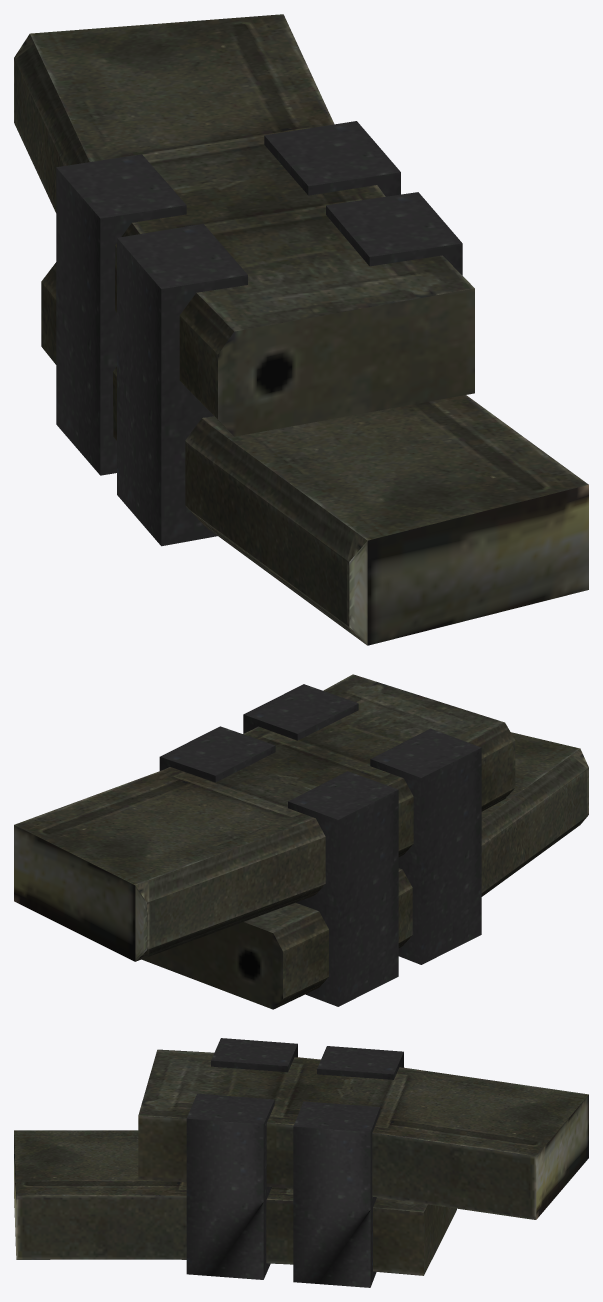
Rendered from t6_attach_fastmag_sig556_world_LOD1.obj.
The picture shows the model from 3 angles, top to bottom: view 1: azimuth 30°, elevation 25°; view 2: azimuth 150°, elevation 25°; view 3: azimuth 270°, elevation 25°; orthographic projection. The views are drawn at different scales.
Visible parts, largest first — view 1: mtl_t6_wpn_ar_sig556_camo1, mtl_t6_wpn_ar_sig556_camo3; view 2: mtl_t6_wpn_ar_sig556_camo1, mtl_t6_wpn_ar_sig556_camo3; view 3: mtl_t6_wpn_ar_sig556_camo1, mtl_t6_wpn_ar_sig556_camo3.
Part boxes in pixels (x1,y1,x2,y2): mtl_t6_wpn_ar_sig556_camo1: (14, 14, 588, 645); mtl_t6_wpn_ar_sig556_camo3: (56, 121, 462, 546); mtl_t6_wpn_ar_sig556_camo1: (14, 674, 588, 1009); mtl_t6_wpn_ar_sig556_camo3: (159, 684, 481, 1006); mtl_t6_wpn_ar_sig556_camo1: (14, 1049, 588, 1275); mtl_t6_wpn_ar_sig556_camo3: (186, 1038, 403, 1287).
Size of the model in its own units: 11.34 by 7.31 by 24.38.
